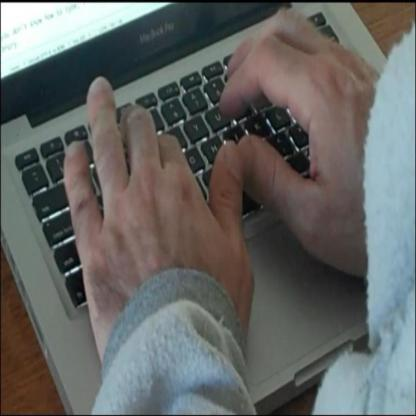board: (0, 0, 388, 415)
